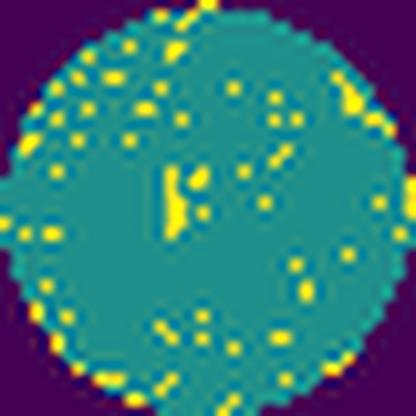Loc: (157, 163, 191, 243)
